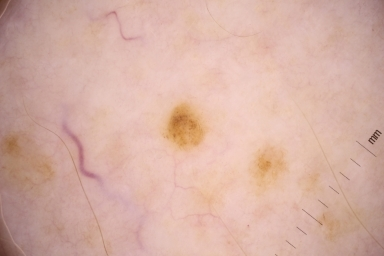nevus: (164, 104, 210, 155), (249, 146, 288, 184)
